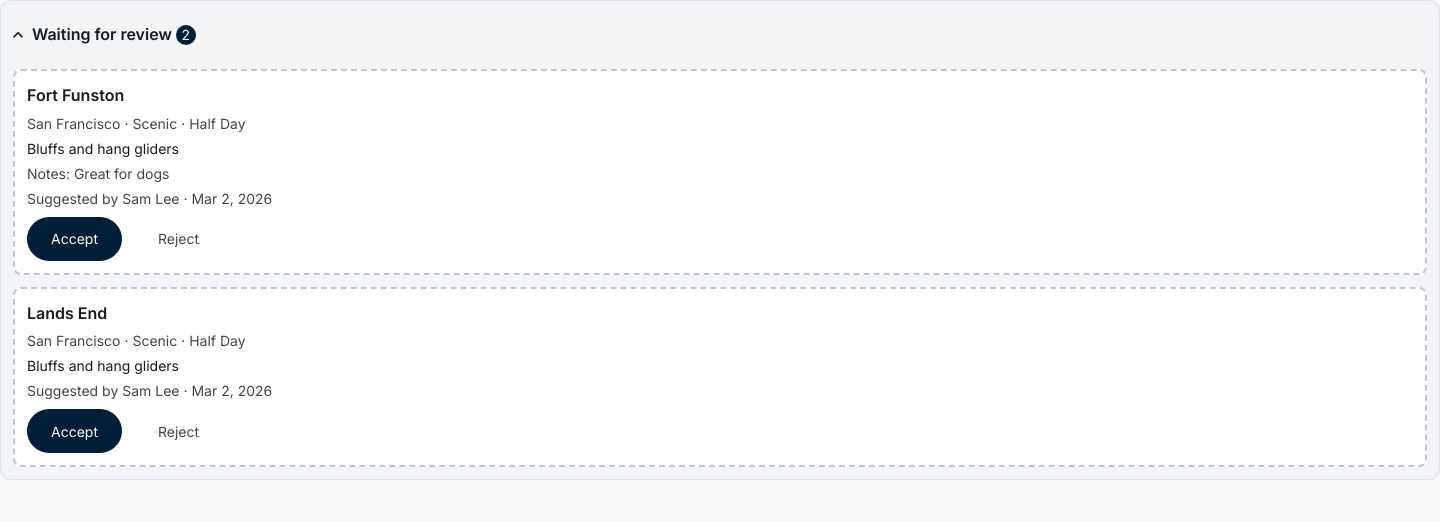
Test: PendingSuggestions (#73) › shows why accepting failed, on that suggestion only
Click the button named "Accept Fort Funston" at x=74, y=239, box [27,217,122,261]
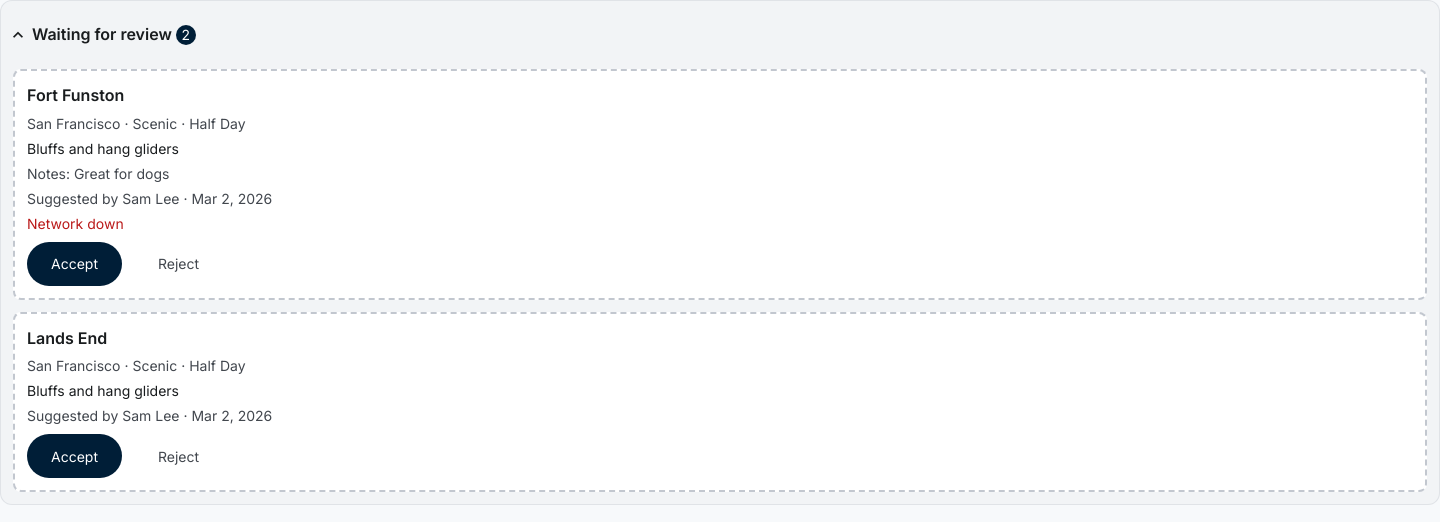
Check: the message reads "Network down", box [27,215,124,232]
